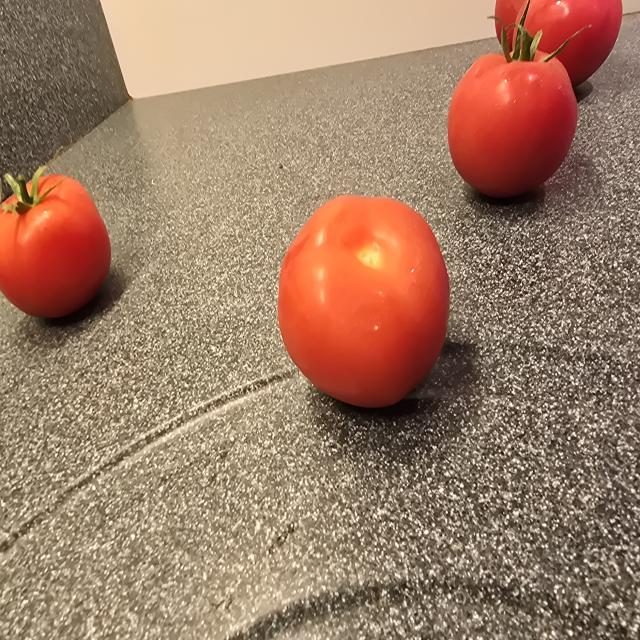Tomato: (278, 195, 450, 407), (448, 54, 577, 197), (0, 166, 111, 318)
